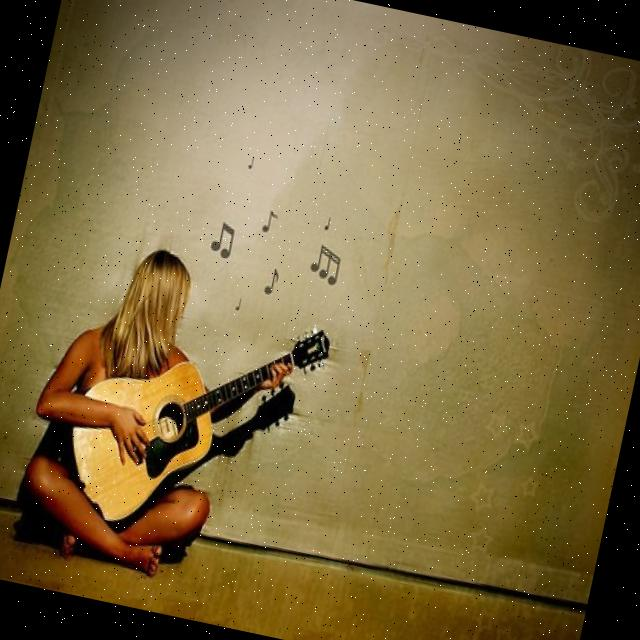guitar: (44, 276, 337, 562)
